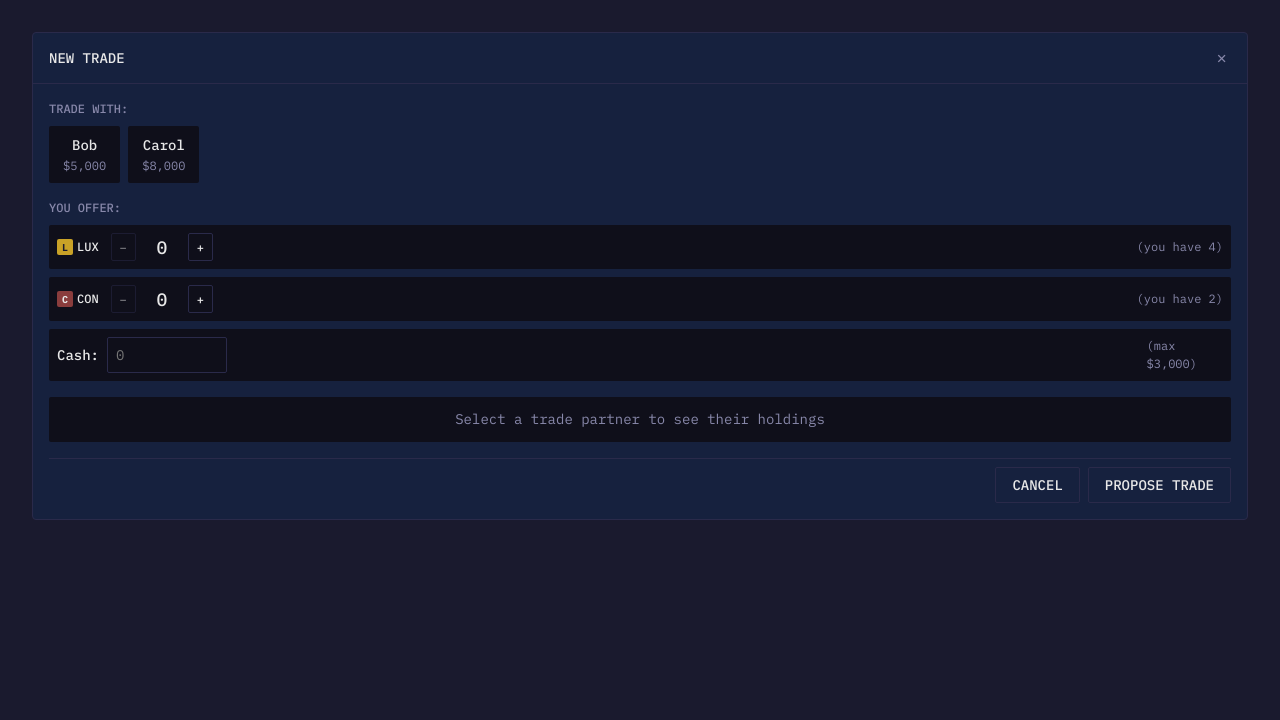
Test: TradeBuilder › offer stock controls › allows incrementing offer stock
Click the button with test id "stepper-increment" in the row of "LUX". click: coordinates (200, 247)
box: [188, 233, 213, 261]
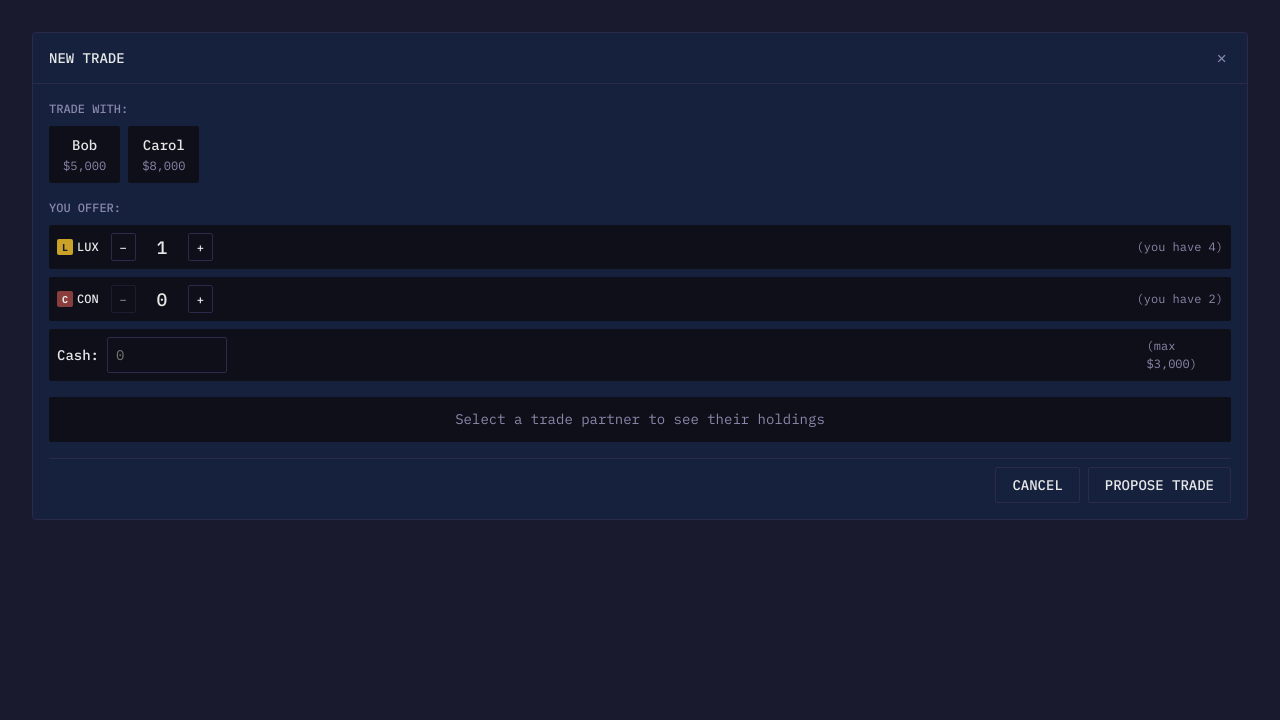
Expected: the text with test id "stepper-value" reads "1", [156, 236, 167, 258]
